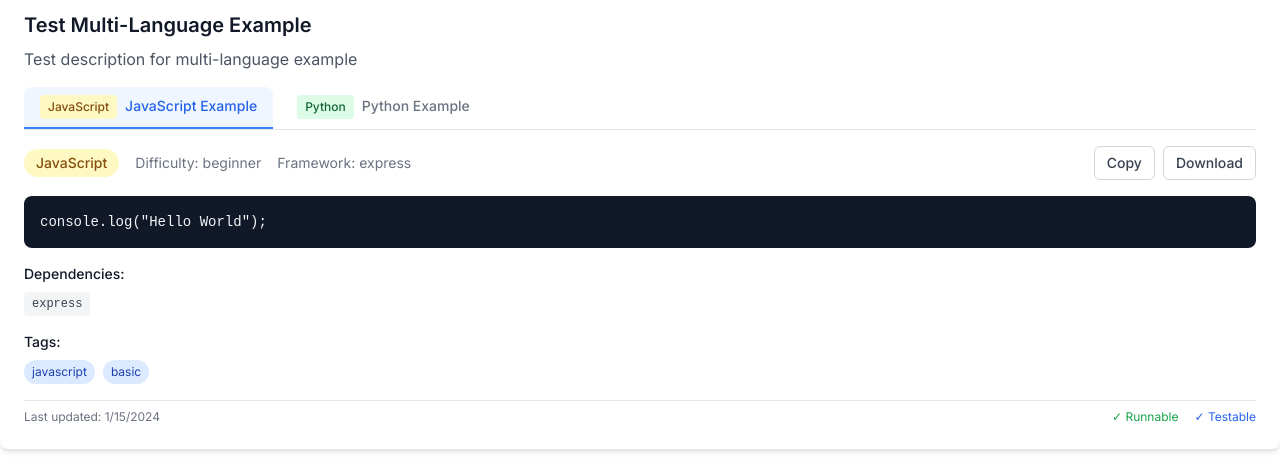
Test case: MultiLanguageCodeExample › switches between language tabs
Expected: the text "console.log(\"Hello World\");" is shown, x1=40 y1=214 x2=267 y2=230
// Click Python tab
Click the text "Python" at (326, 107), box x1=297 y1=95 x2=354 y2=119
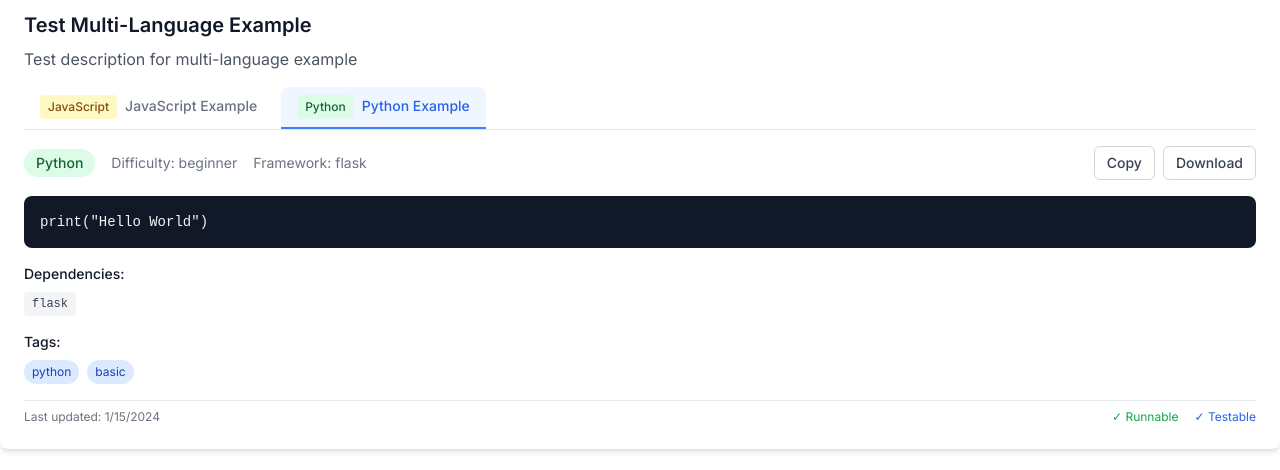
Expected: the text "print(\"Hello World\")" is shown, x1=40 y1=214 x2=208 y2=230
